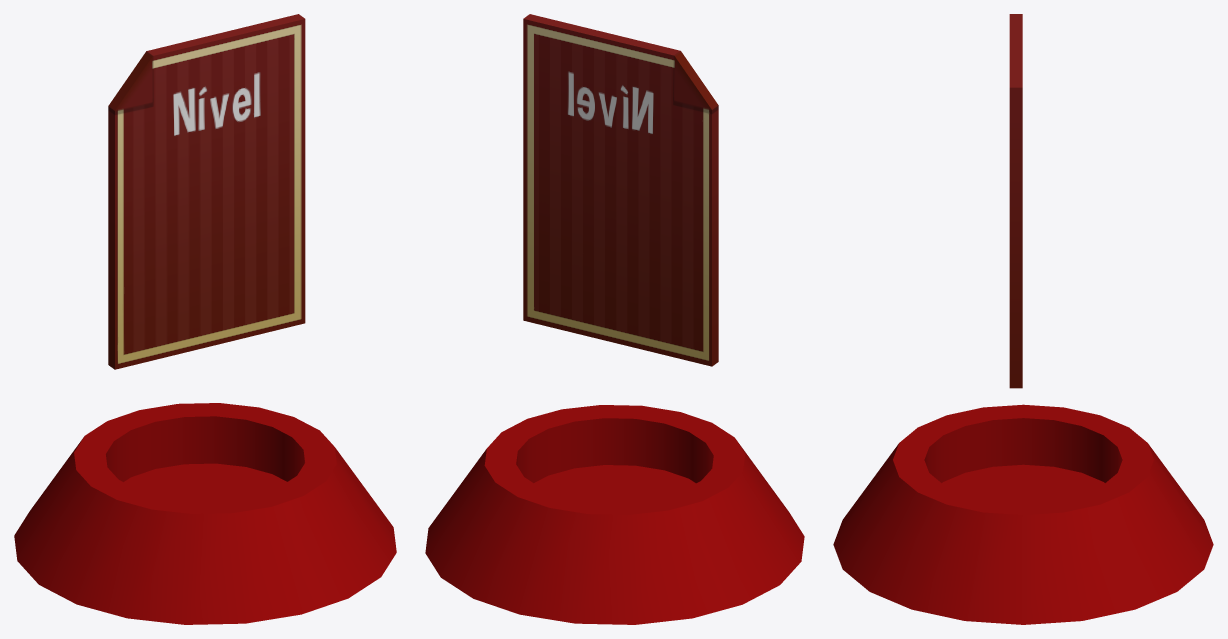
The model's file is baseebandeira.fbx.
The picture shows the model from 3 angles, left to right: view 1: azimuth 30°, elevation 25°; view 2: azimuth 150°, elevation 25°; view 3: azimuth 270°, elevation 25°; orthographic projection.
Parts seen in each view (by area): view 1: pCylinder2, pCube1; view 2: pCylinder2, pCube1; view 3: pCylinder2, pCube1.
Boxes of the visible parts, box(x1,y1,x2,y2) form: pCylinder2: box(14, 403, 396, 624); pCube1: box(108, 14, 305, 369); pCylinder2: box(425, 405, 804, 624); pCube1: box(523, 14, 718, 366); pCylinder2: box(833, 404, 1213, 624); pCube1: box(1009, 14, 1022, 388).
Size of the model in its own units: 4.67 by 6.8 by 4.67.
2 materials, 1 textured.
